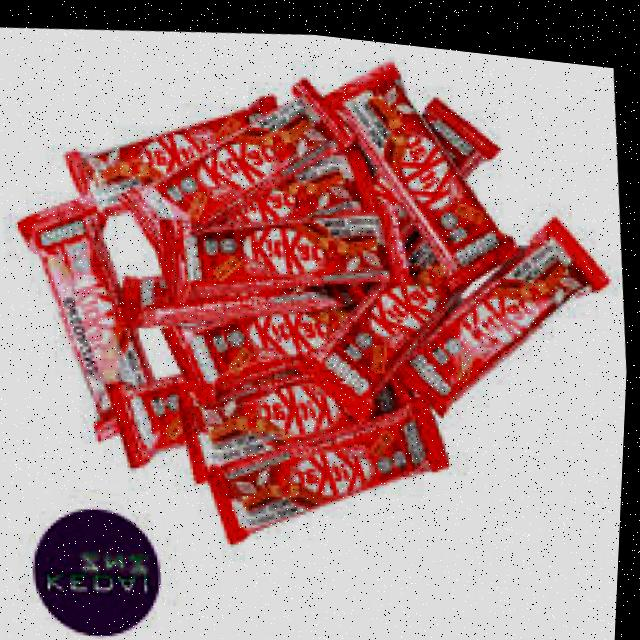kitkat: (394, 181, 629, 418), (319, 43, 521, 275), (201, 378, 454, 558), (122, 62, 358, 251), (313, 219, 487, 419), (63, 67, 294, 212), (159, 268, 393, 411), (158, 189, 402, 320), (186, 349, 389, 491)
